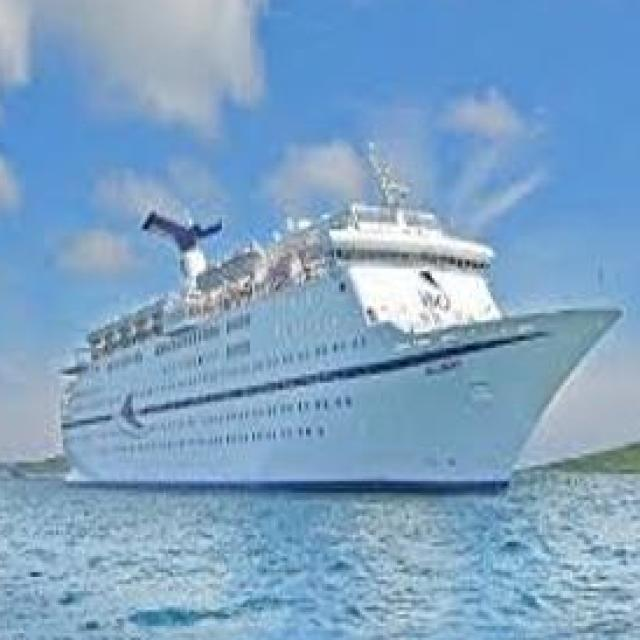passenger ship: (56, 179, 623, 490)
